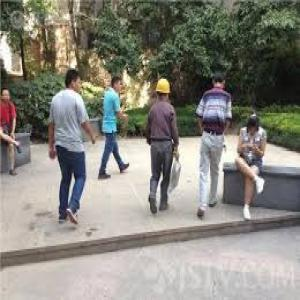none: (64, 68, 82, 96), (247, 114, 261, 139), (211, 69, 226, 92), (111, 75, 123, 94), (2, 88, 13, 106)
yellow: (154, 78, 172, 103)
